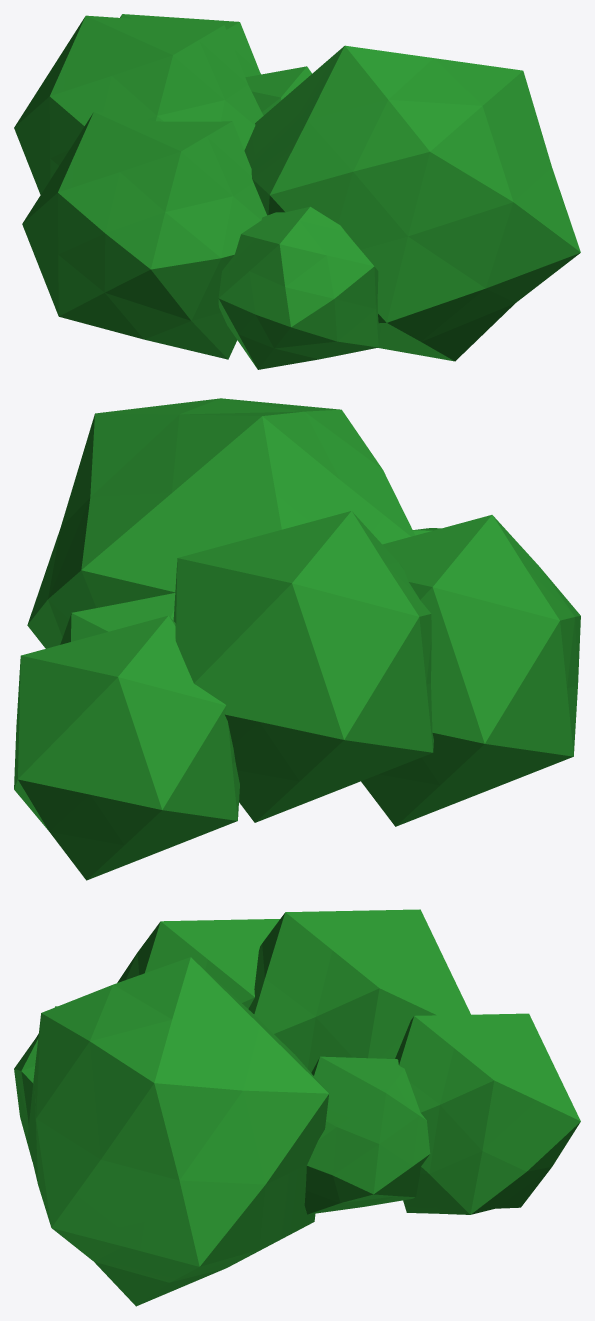
Rendered from bush1.fbx.
3 views of the same model, one above another, from view 1: azimuth 30°, elevation 25°; view 2: azimuth 150°, elevation 25°; view 3: azimuth 270°, elevation 25° (orthographic). The views are drawn at different scales.
Parts seen in each view (by area): view 1: Icosphere.017; view 2: Icosphere.017; view 3: Icosphere.017.
Boxes of the visible parts, box(x1,y1,x2,y2) form: Icosphere.017: box(14, 14, 580, 369); Icosphere.017: box(14, 398, 580, 880); Icosphere.017: box(14, 909, 580, 1306).
Size of the model in its own units: 227 by 146 by 243.
